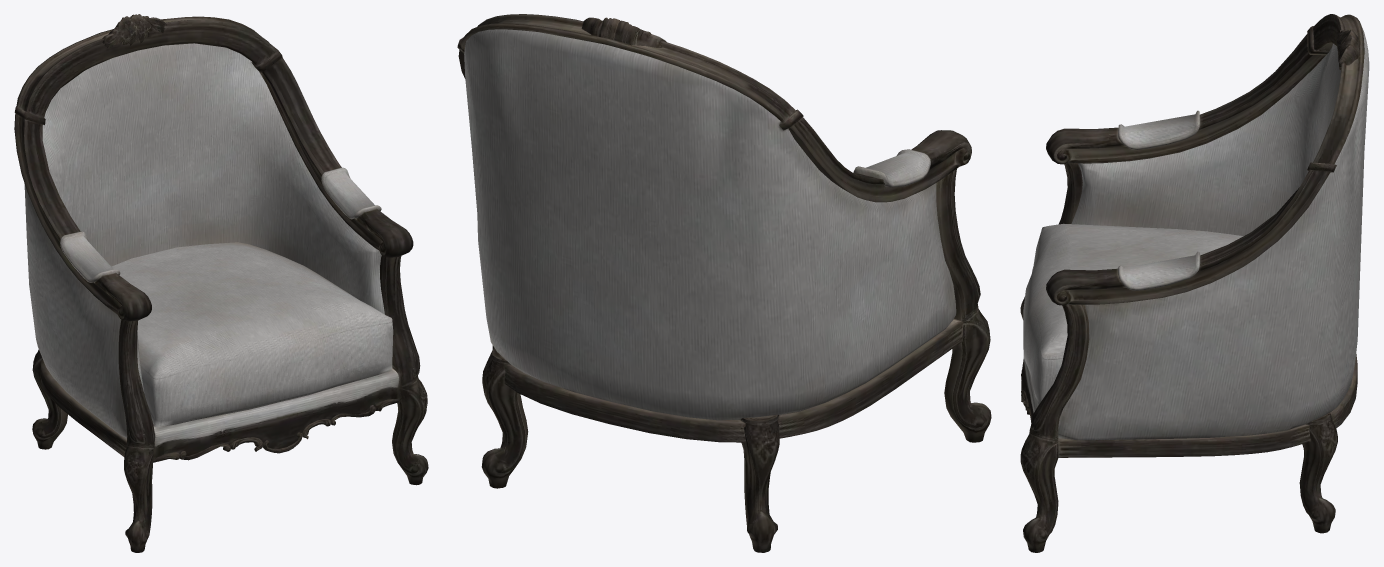
File: ArmChair_01.glb
The picture shows the model from 3 angles, left to right: view 1: azimuth 30°, elevation 25°; view 2: azimuth 150°, elevation 25°; view 3: azimuth 270°, elevation 25°; orthographic projection. The views are drawn at different scales.
Parts seen in each view (by area): view 1: ArmChair_01; view 2: ArmChair_01; view 3: ArmChair_01.
Part boxes in pixels (<box>): ArmChair_01: <box>14,14,428,552</box>; ArmChair_01: <box>457,14,991,552</box>; ArmChair_01: <box>1020,14,1369,552</box>.
Size of the model in its own units: 0.8486 by 1.07 by 0.7657.
Materials: 1 (1 with a texture image).
